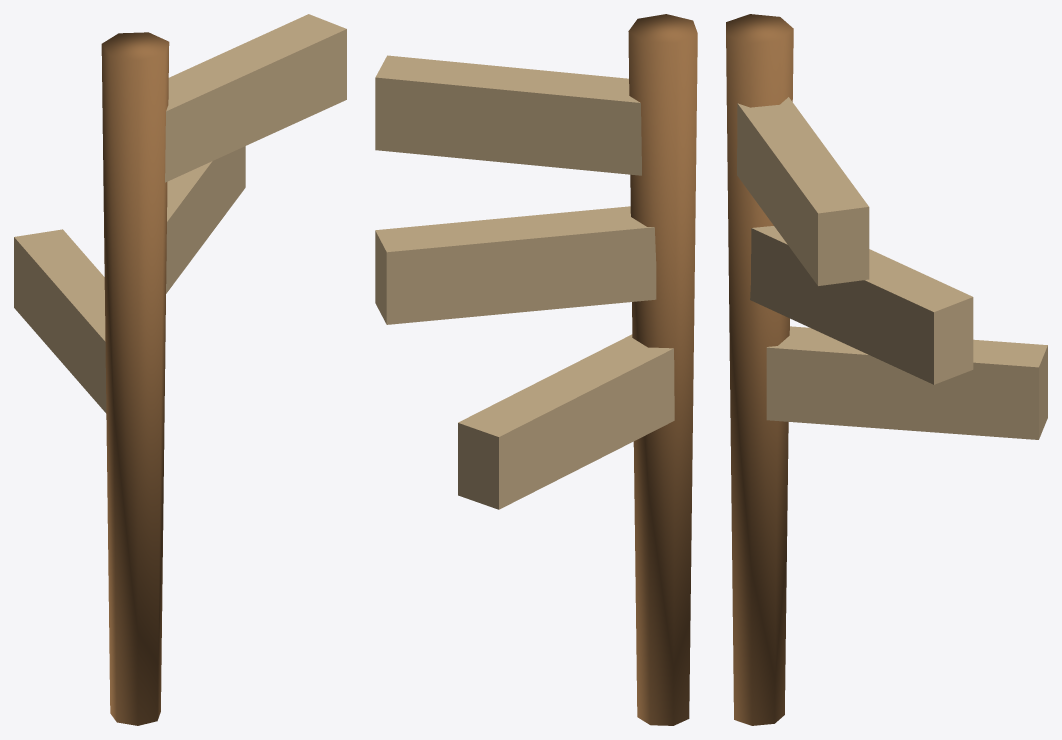
The model's file is xy_town_signpost.glb.
3 views of the same model, side by side, from view 1: azimuth 30°, elevation 25°; view 2: azimuth 150°, elevation 25°; view 3: azimuth 270°, elevation 25° (orthographic). The views are drawn at different scales.
Parts seen in each view (by area): view 1: xy_town_signpost; view 2: xy_town_signpost; view 3: xy_town_signpost.
Part boxes in pixels (x1,y1,x2,y2): xy_town_signpost: (14, 14, 346, 725); xy_town_signpost: (375, 14, 697, 725); xy_town_signpost: (726, 14, 1047, 725).
Bounding box in the file's own units: 0.7167 × 1.7 × 0.7228.
